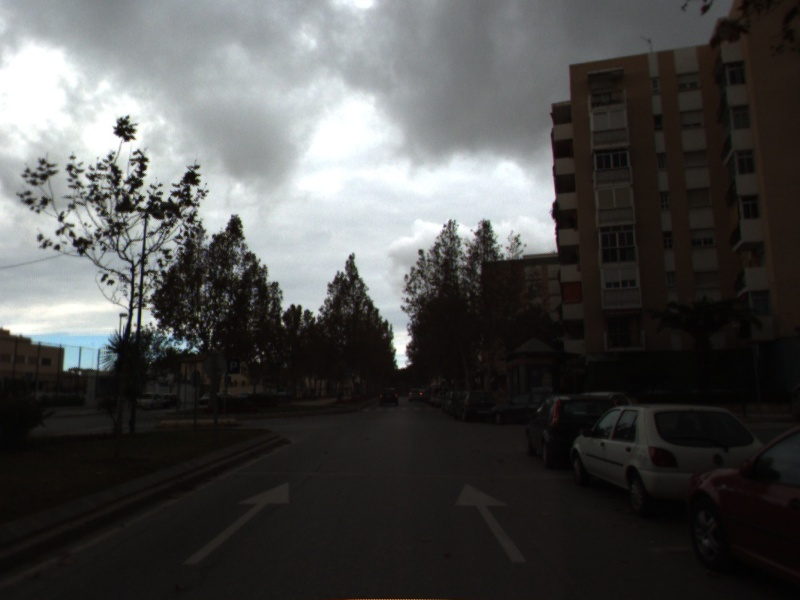STRAIGHT: (181, 480, 292, 566), (452, 481, 530, 565)
